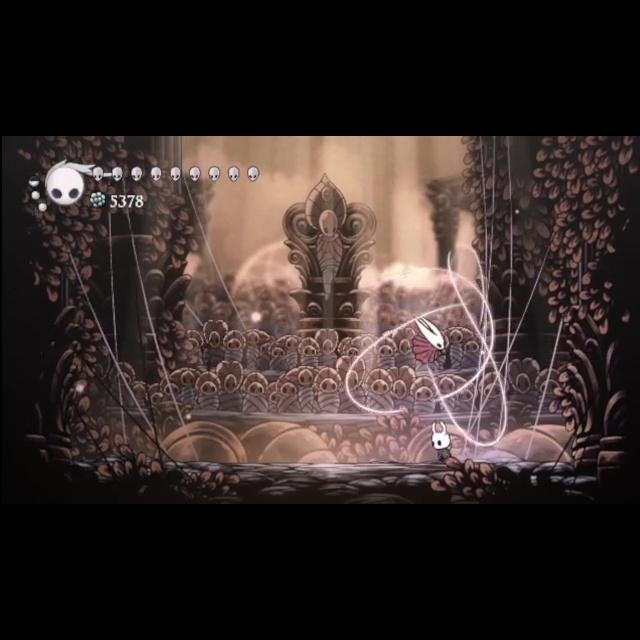EnemyAirAttack: (394, 308, 470, 386)
Player: (424, 419, 462, 469)
